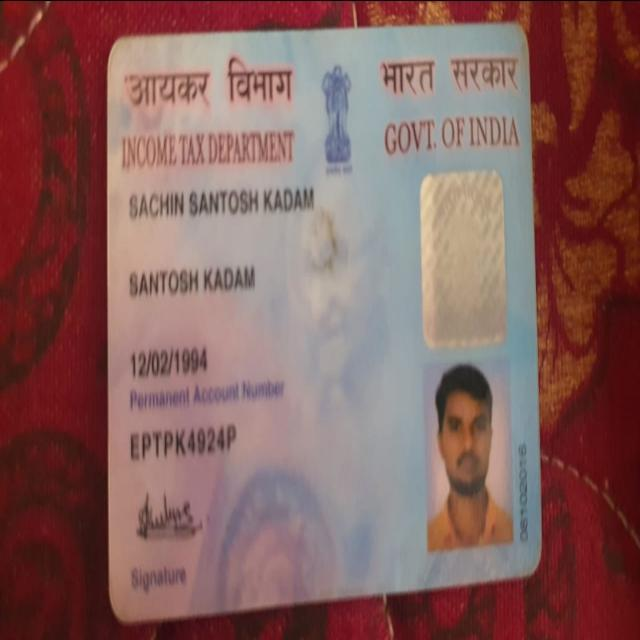pan_card: (106, 26, 543, 618)
